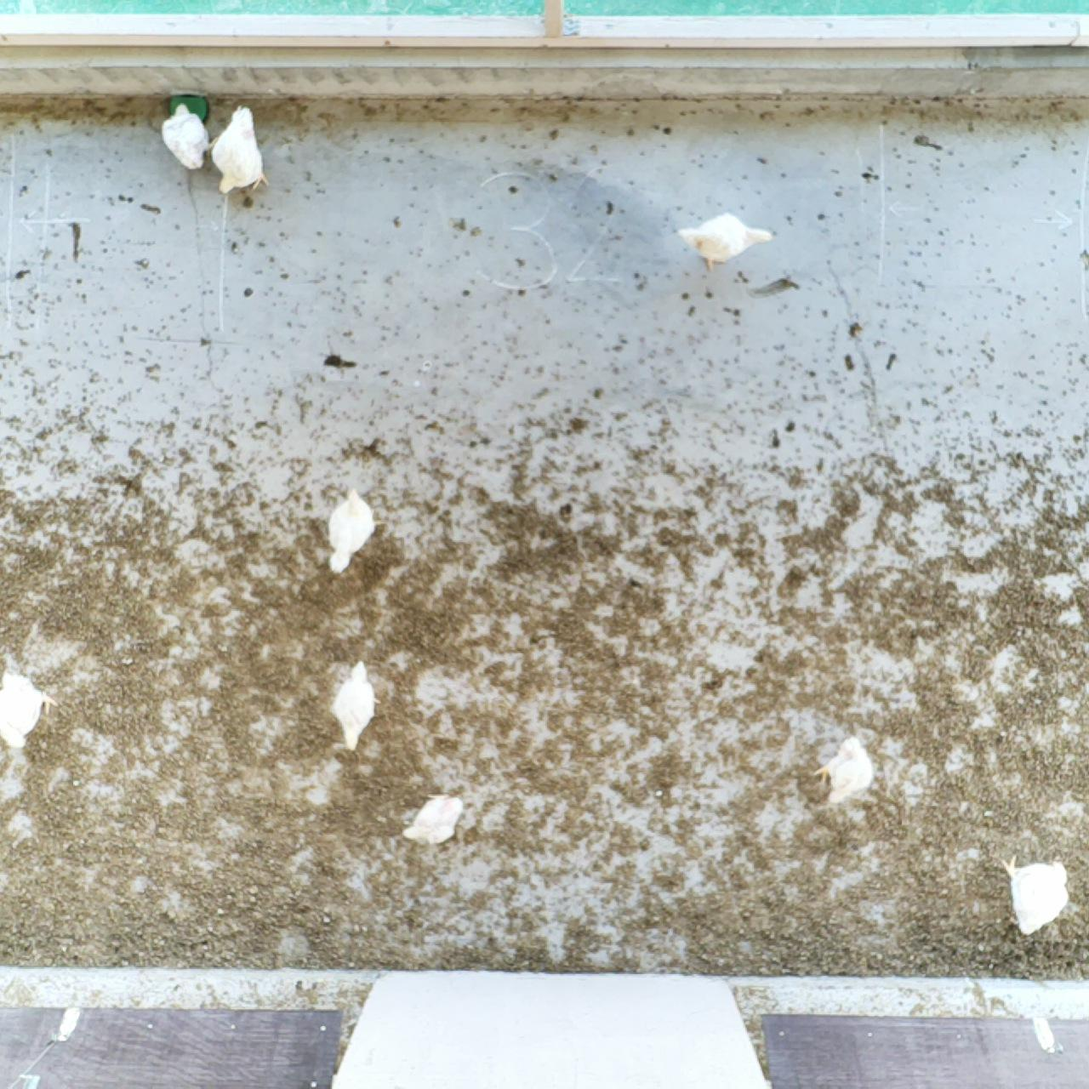chicken: (997, 849, 1075, 940), (674, 208, 779, 274), (208, 104, 274, 201), (323, 484, 389, 575), (325, 656, 383, 756), (811, 730, 877, 812), (0, 668, 61, 753), (159, 101, 221, 175), (398, 788, 466, 850)
